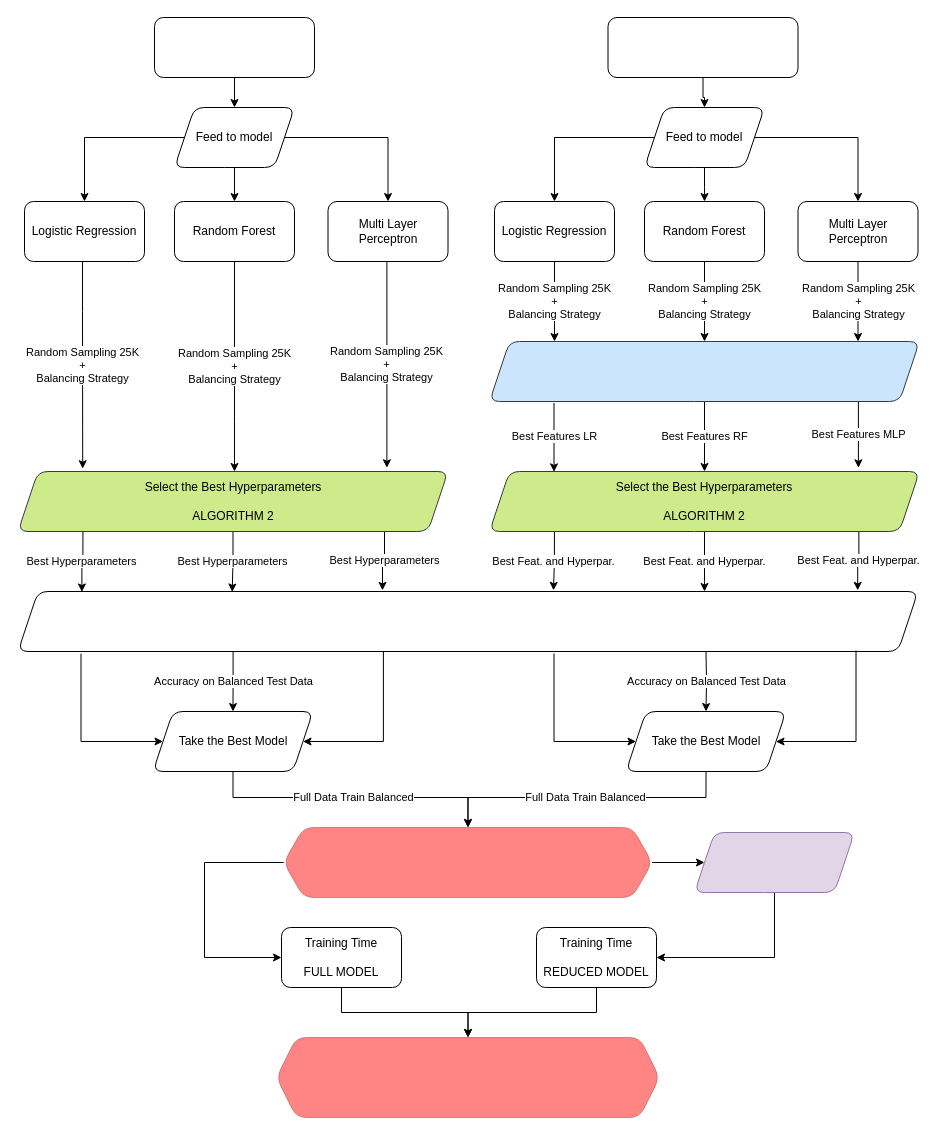
Some shapes in this 937 by 1135 pixel diagram are drawn without their labels. The shapes that lost their labels are listed below. From the top down, each one's box as (x1, y1, x2, y2) in pixels, then its label:
(154, 16, 314, 78): Symptoms Features
(607, 16, 798, 78): Network Extracted Features
(488, 340, 920, 402): Select the Best Features Combination ALGORITHM 1
(17, 590, 918, 652): Train the 6 Models
(283, 826, 652, 898): Compare the performance and get the Best Absolute Model GOAL 1
(694, 832, 854, 892): Features Reduction Algorithm
(276, 1036, 660, 1118): Computational Complexity Reduction Evaluation GOAL 2
